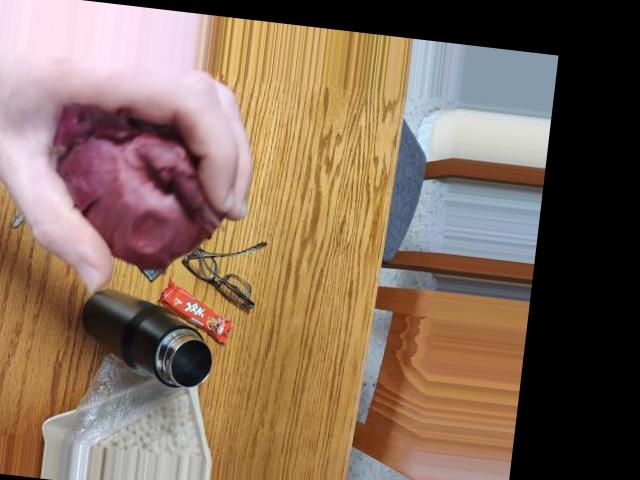onion: (70, 113, 205, 243)
